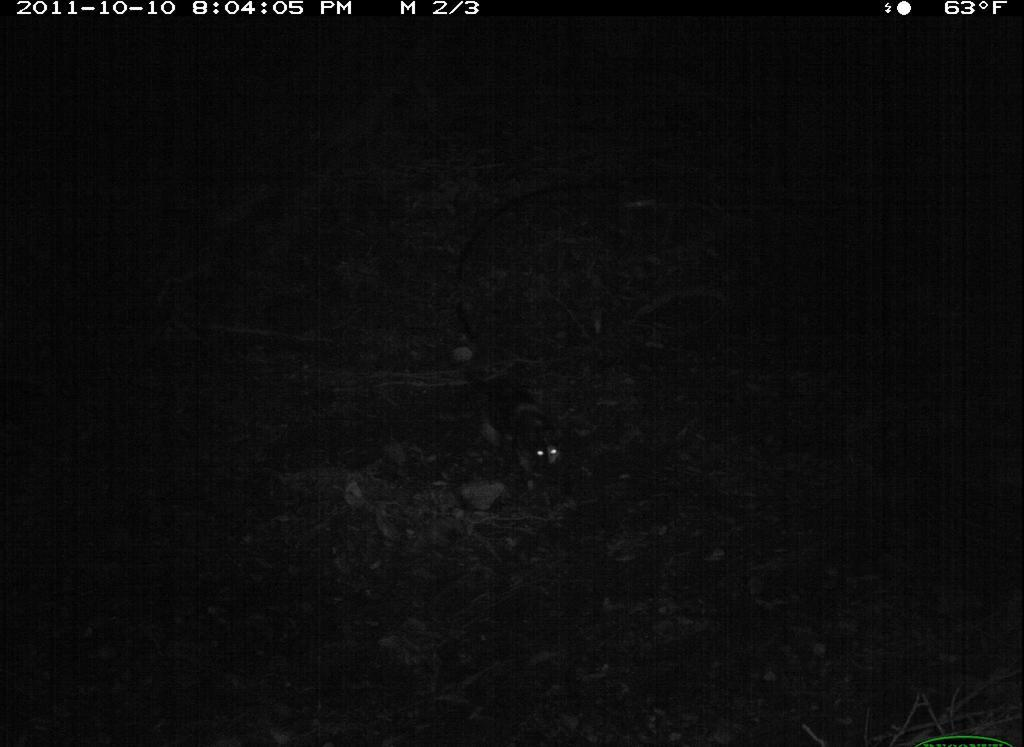cat: (470, 358, 580, 491)
